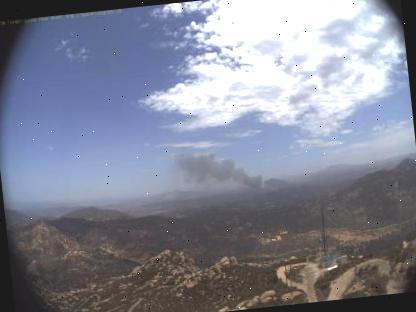smoke: (166, 137, 279, 205)
